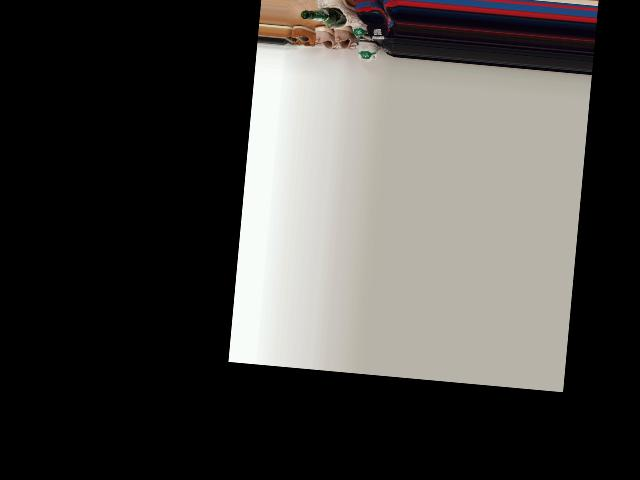beer: (300, 4, 347, 25)
